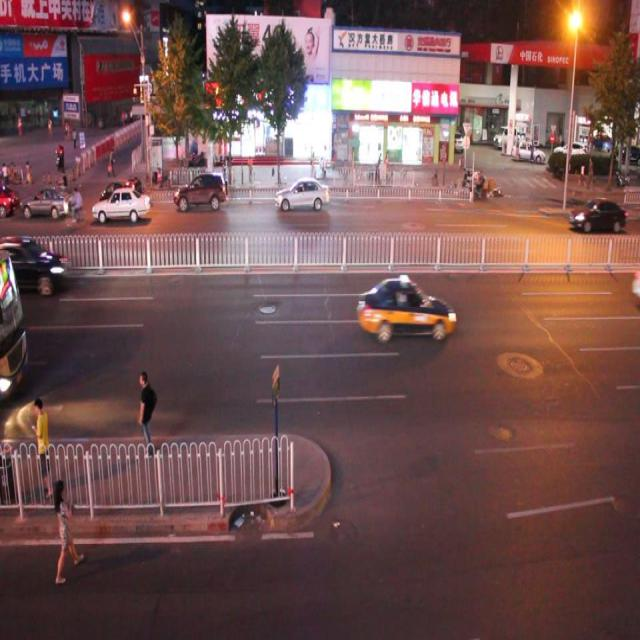car: (357, 278, 455, 342), (1, 235, 67, 296), (172, 169, 227, 211), (275, 174, 329, 213), (570, 196, 625, 234), (22, 183, 73, 222), (92, 187, 150, 220), (101, 180, 145, 223)
